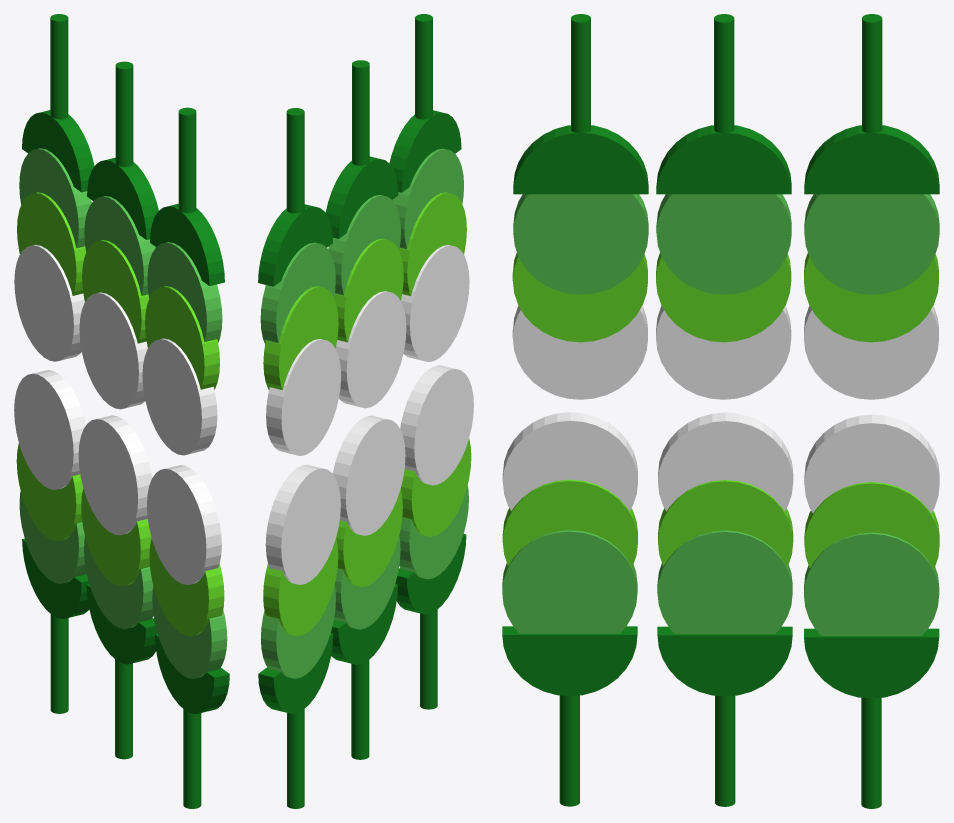
File: coherencia.fbx
3 views of the same model, side by side, from view 1: azimuth 30°, elevation 25°; view 2: azimuth 150°, elevation 25°; view 3: azimuth 270°, elevation 25° (orthographic). The views are drawn at different scales.
Parts seen in each view (by area): view 1: Cylinder.015; view 2: Cylinder.015; view 3: Cylinder.015.
Boxes of the visible parts, x1,y1,x2,y2 form: Cylinder.015: [14, 14, 229, 808]; Cylinder.015: [258, 14, 473, 808]; Cylinder.015: [502, 14, 939, 808].
Bounding box in the file's own units: 76.67 × 2185 × 1102.
